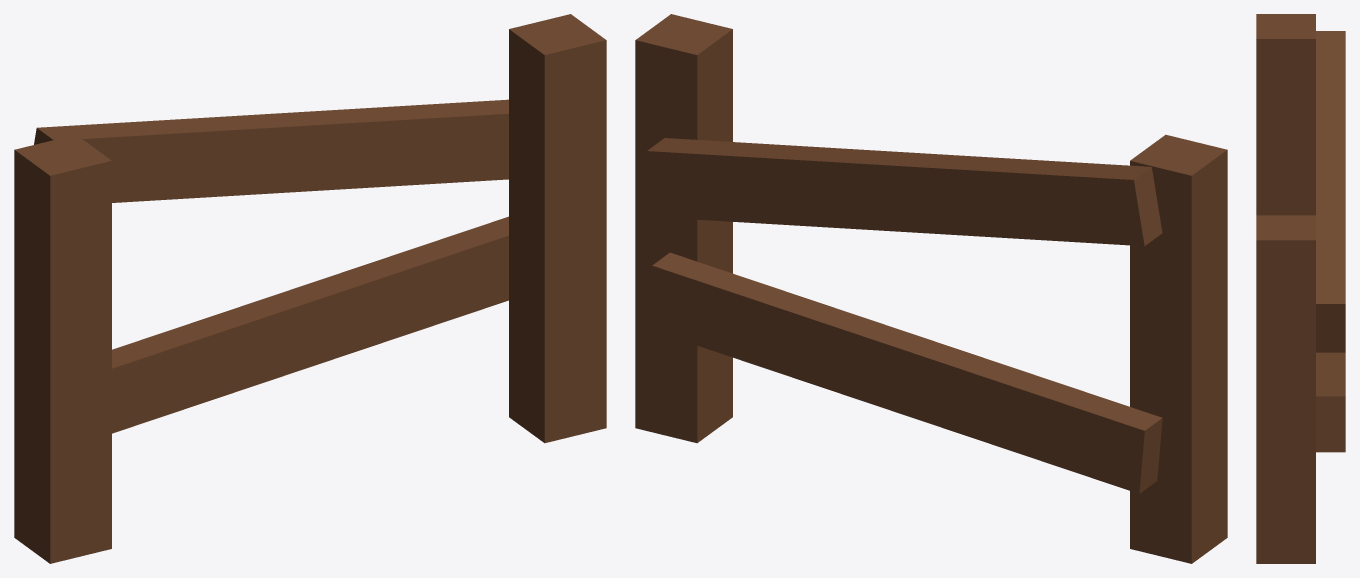
File: obstacles_fance_2.fbx
3 renders of one model, left to right at view 1: azimuth 30°, elevation 25°; view 2: azimuth 150°, elevation 25°; view 3: azimuth 270°, elevation 25°, orthographic. The views are drawn at different scales.
Parts seen in each view (by area): view 1: Cube.003; view 2: Cube.003; view 3: Cube.003.
Boxes of the visible parts, left/top/right/bottom form: Cube.003: left=14, top=14, right=606, bottom=563; Cube.003: left=635, top=14, right=1227, bottom=563; Cube.003: left=1256, top=14, right=1345, bottom=563.
Size of the model in its own units: 450 by 300 by 75.
